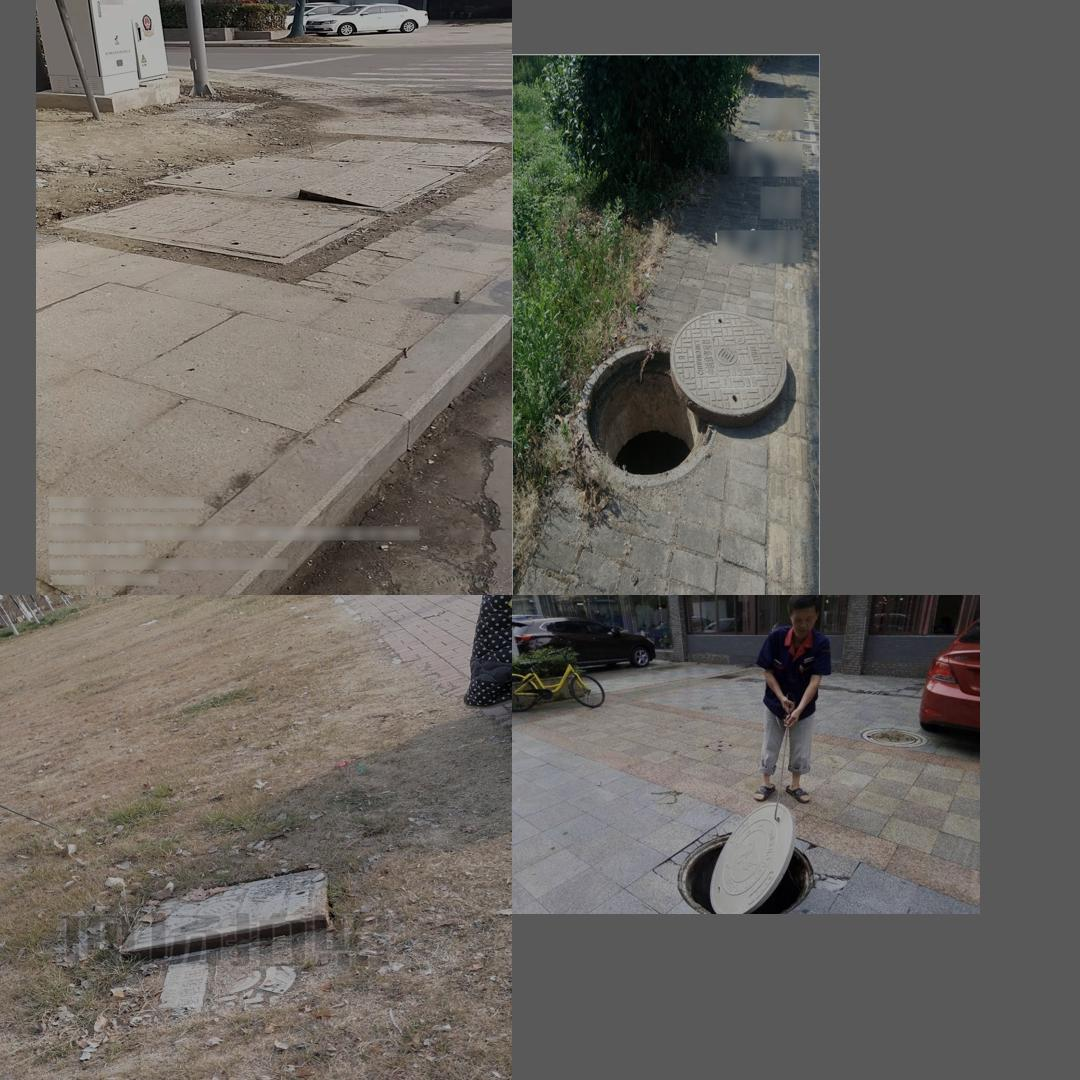good: (54, 191, 380, 267)
uncovered: (579, 310, 787, 487), (104, 859, 372, 961), (662, 799, 838, 914), (140, 153, 465, 213)
